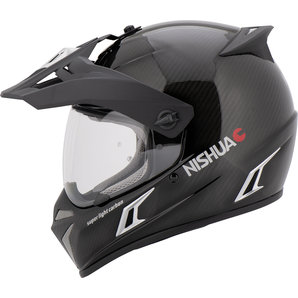with_helmet: (1, 18, 298, 282)
